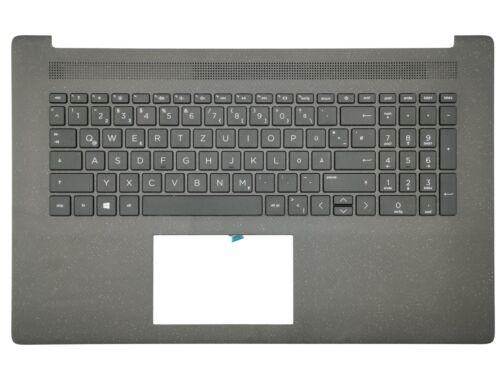0: (270, 104, 291, 124)
1: (66, 104, 87, 124)
2: (89, 104, 110, 124)
3: (111, 104, 132, 124)
4: (135, 104, 155, 124)
5: (157, 104, 178, 125)
6: (180, 104, 200, 125)
7: (203, 104, 223, 125)
8: (225, 104, 246, 125)
9: (247, 104, 268, 124)
a: (83, 148, 104, 169)
accent: (316, 104, 336, 124)
ae: (310, 149, 330, 169)
alt-left: (117, 194, 138, 215)
altgr-right: (263, 193, 284, 215)
b: (185, 171, 206, 191)
c: (140, 171, 161, 191)
caret: (47, 104, 64, 124)
comma: (253, 171, 274, 191)
d: (129, 148, 149, 169)
del: (339, 104, 374, 124)
e: (123, 126, 144, 146)
enter: (333, 148, 375, 169)
f: (152, 149, 172, 169)
g: (174, 149, 195, 169)
h: (197, 149, 218, 169)
hash: (350, 126, 375, 146)
i: (237, 126, 257, 146)
j: (220, 149, 240, 169)
k: (242, 149, 263, 169)
keyboard: (41, 84, 465, 222)
l: (265, 149, 285, 169)
less: (285, 193, 307, 215)
m: (230, 171, 252, 191)
minus: (298, 171, 319, 191)
n: (208, 171, 229, 191)
o: (259, 126, 280, 147)
oe: (287, 149, 308, 169)
p: (282, 126, 302, 147)
plus: (327, 126, 347, 146)
point: (276, 171, 296, 191)
q: (77, 126, 99, 146)
r: (146, 126, 166, 147)
s: (106, 149, 127, 169)
shift-left: (48, 171, 92, 191)
shift-lock: (48, 149, 81, 168)
shift-right: (321, 171, 374, 191)
space: (140, 193, 262, 216)
ss: (293, 104, 314, 124)
strg-left: (49, 195, 70, 216)
t: (169, 126, 189, 147)
tab: (47, 126, 75, 146)
u: (214, 126, 235, 147)
ue: (304, 126, 325, 147)
v: (163, 171, 184, 191)
w: (100, 126, 121, 147)
x: (117, 171, 138, 191)
y: (95, 171, 116, 191)
z: (191, 126, 212, 147)
